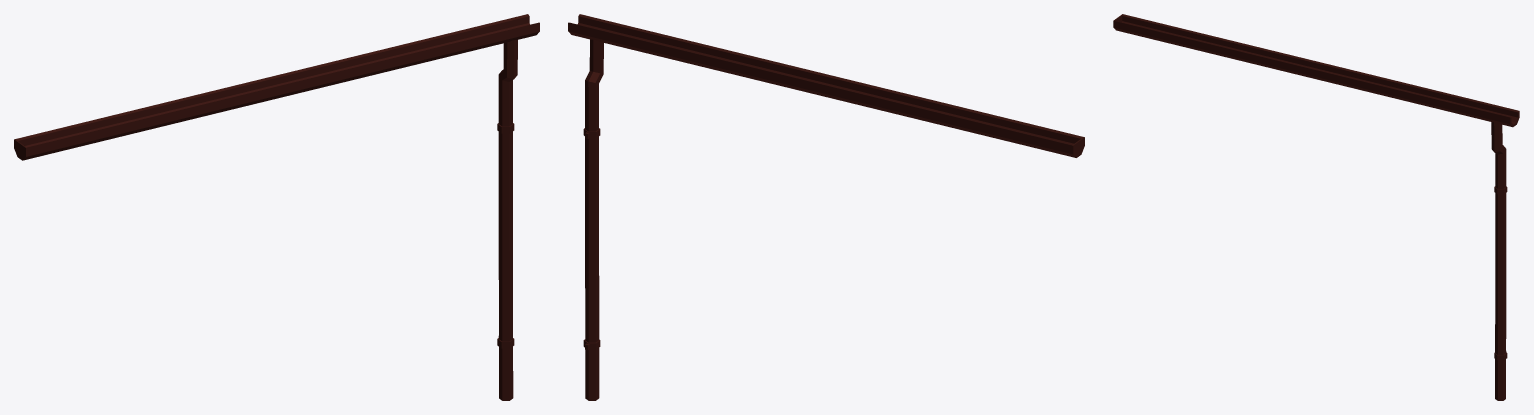
The model's file is rainwater channel4.fbx.
The picture shows the model from 3 angles, left to right: view 1: azimuth 30°, elevation 25°; view 2: azimuth 150°, elevation 25°; view 3: azimuth 330°, elevation 25°; orthographic projection. The views are drawn at different scales.
Visible parts, largest first — view 1: canale, tubo_canale; view 2: canale, tubo_canale; view 3: canale, tubo_canale.
Boxes of the visible parts, x1,y1,x2,y2 form: canale: (15,14,539,160); tubo_canale: (498,40,517,400); canale: (568,14,1082,157); tubo_canale: (585,39,603,400); canale: (1114,14,1519,127); tubo_canale: (1491,122,1506,400).
Size of the model in its own units: 833 by 585 by 46.17.
